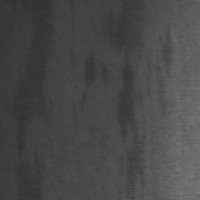inclusion: (10, 2, 56, 189), (105, 4, 152, 182), (154, 20, 176, 104), (75, 52, 101, 111)
